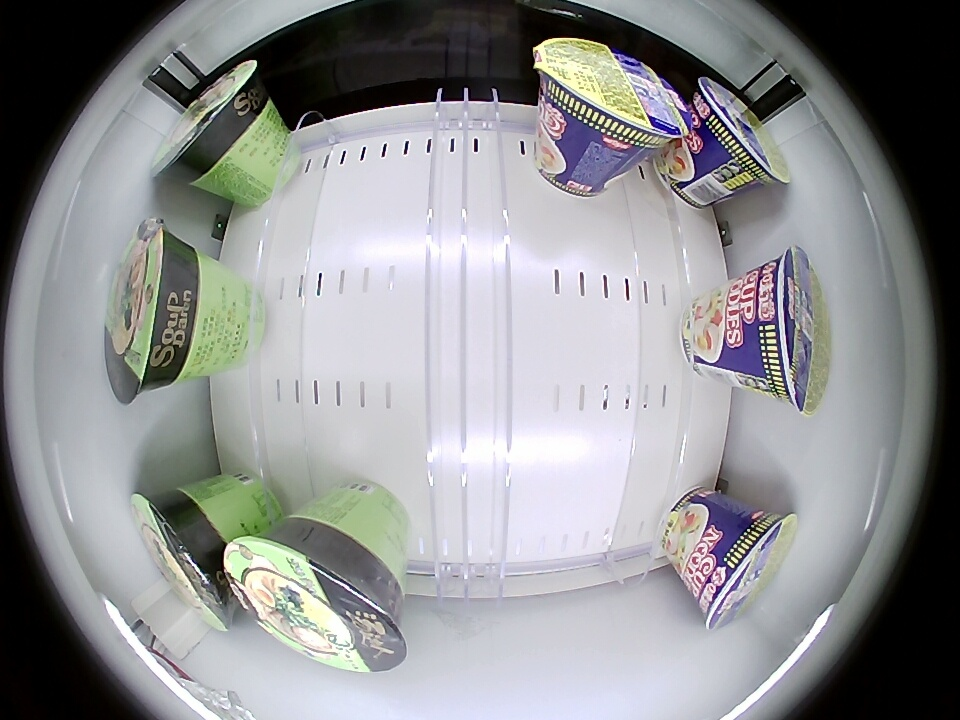heweidao: (533, 39, 693, 158), (751, 247, 830, 416), (693, 508, 798, 629), (694, 75, 792, 188)
tangdaren: (223, 519, 406, 674), (102, 219, 207, 405), (147, 57, 268, 189), (129, 489, 234, 634)
